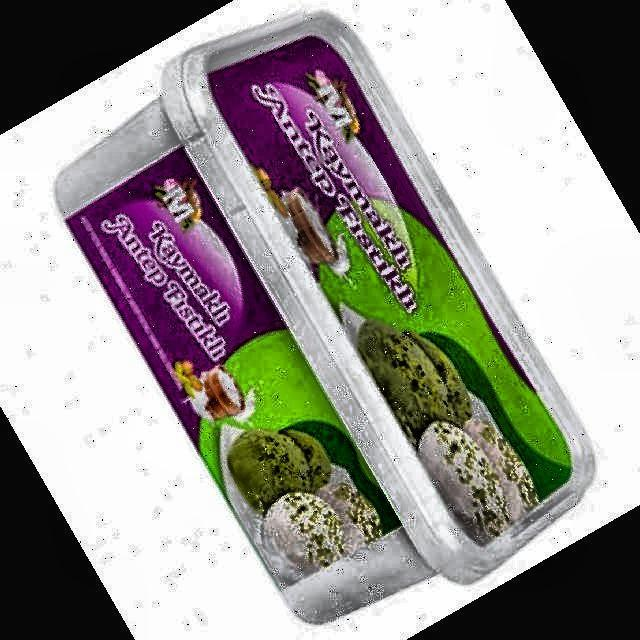plastic: (56, 12, 594, 624)
